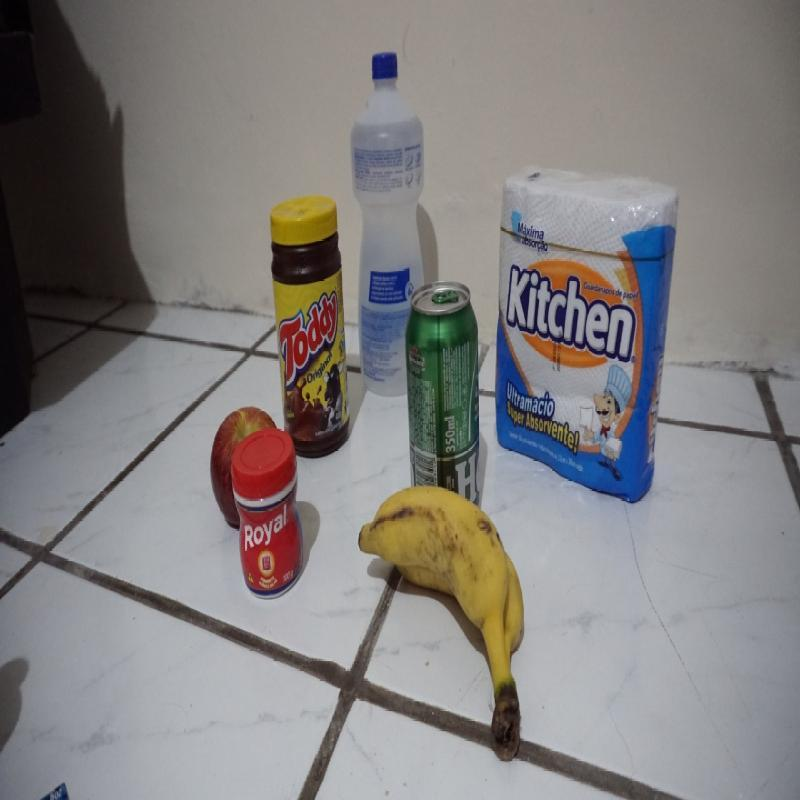Alcohol Bottle: (353, 53, 426, 395)
Apple: (210, 404, 280, 528)
Banana: (356, 489, 525, 759)
Beer can: (406, 280, 478, 501)
Chocolate Powder: (271, 195, 350, 458)
Napkin: (496, 167, 679, 499)
Yeast: (232, 429, 304, 599)
